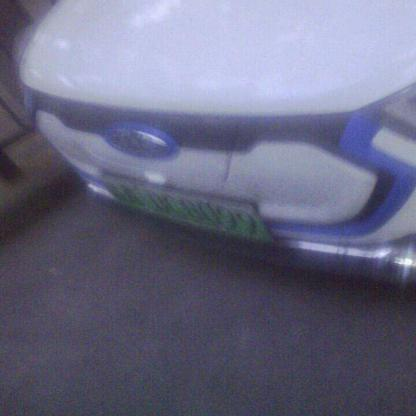lp: (97, 175, 276, 243)
